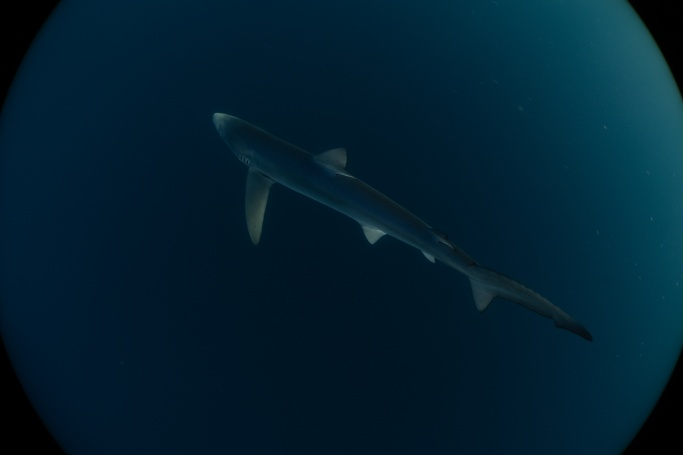Azul: (180, 79, 612, 368)
